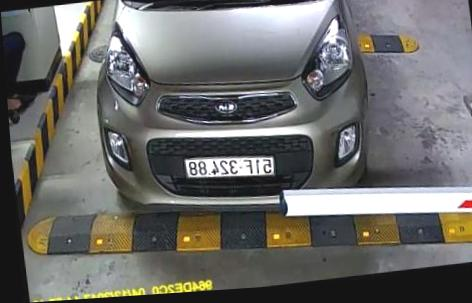License_Plate: (181, 149, 279, 184)
